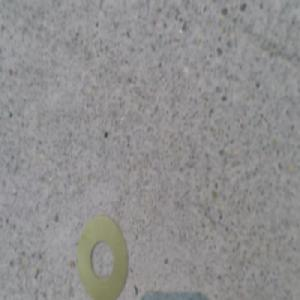Washer: (77, 211, 129, 298)
